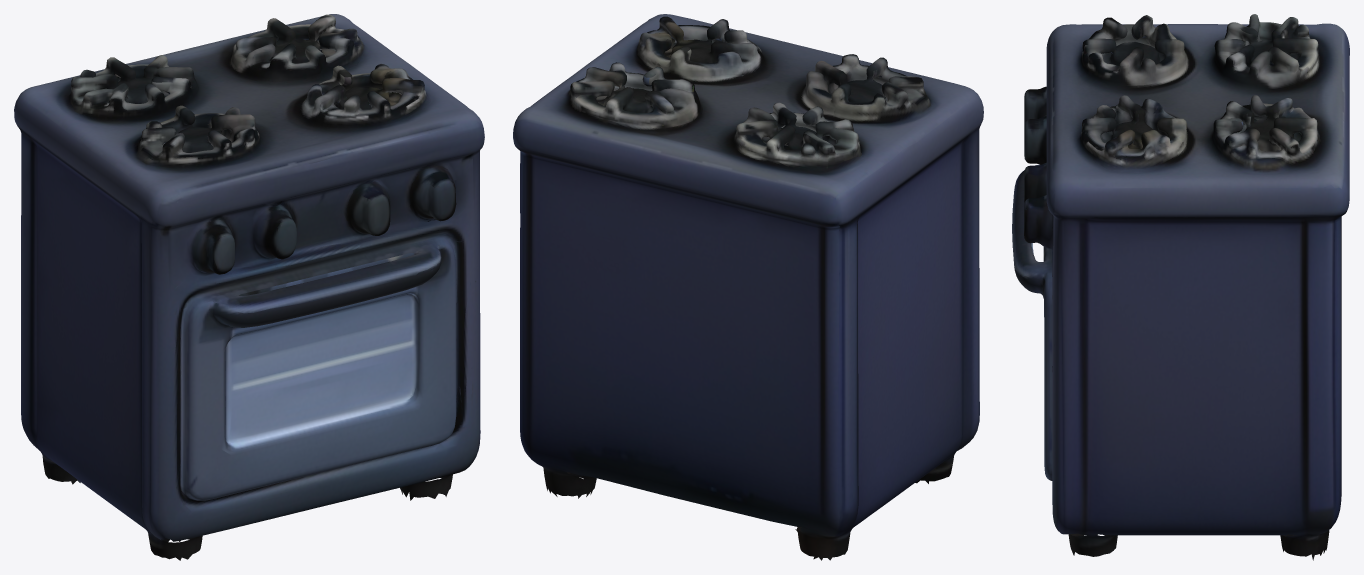
File: stove.glb
3 views of the same model, side by side, from view 1: azimuth 30°, elevation 25°; view 2: azimuth 150°, elevation 25°; view 3: azimuth 270°, elevation 25° (orthographic).
Visible parts, largest first — view 1: patrick-reference-stove; view 2: patrick-reference-stove; view 3: patrick-reference-stove.
Boxes of the visible parts, x1,y1,x2,y2 form: patrick-reference-stove: (14, 14, 484, 560); patrick-reference-stove: (513, 14, 983, 560); patrick-reference-stove: (1012, 14, 1349, 560).
Bounding box in the file's own units: 0.81 × 0.94 × 0.7.
1 material, 1 textured.
